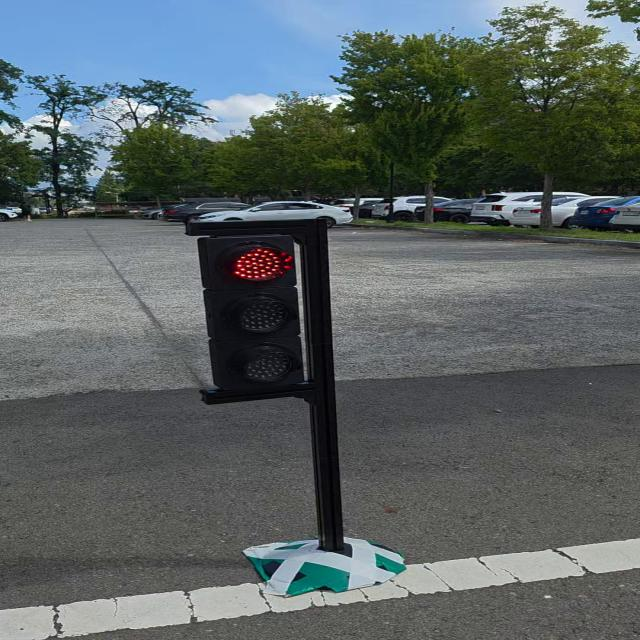red: (182, 230, 317, 400)
